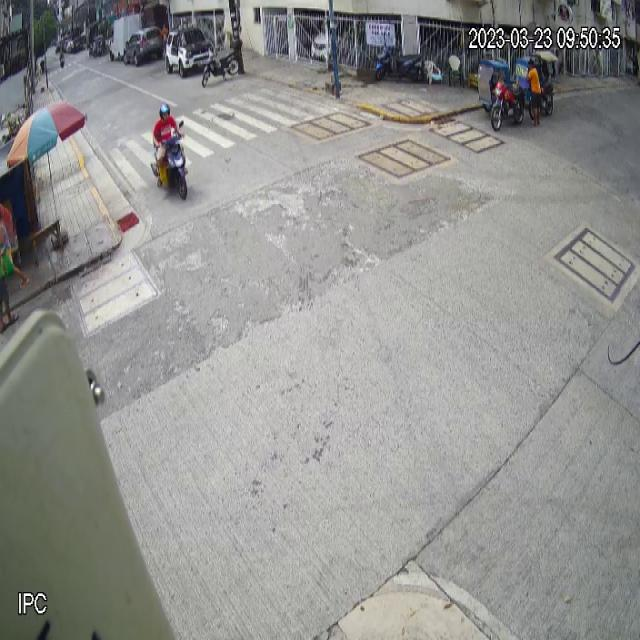Car: (166, 24, 216, 80)
Motorcycle: (149, 119, 188, 201), (202, 44, 240, 88)
Tricycle: (477, 57, 525, 132)
